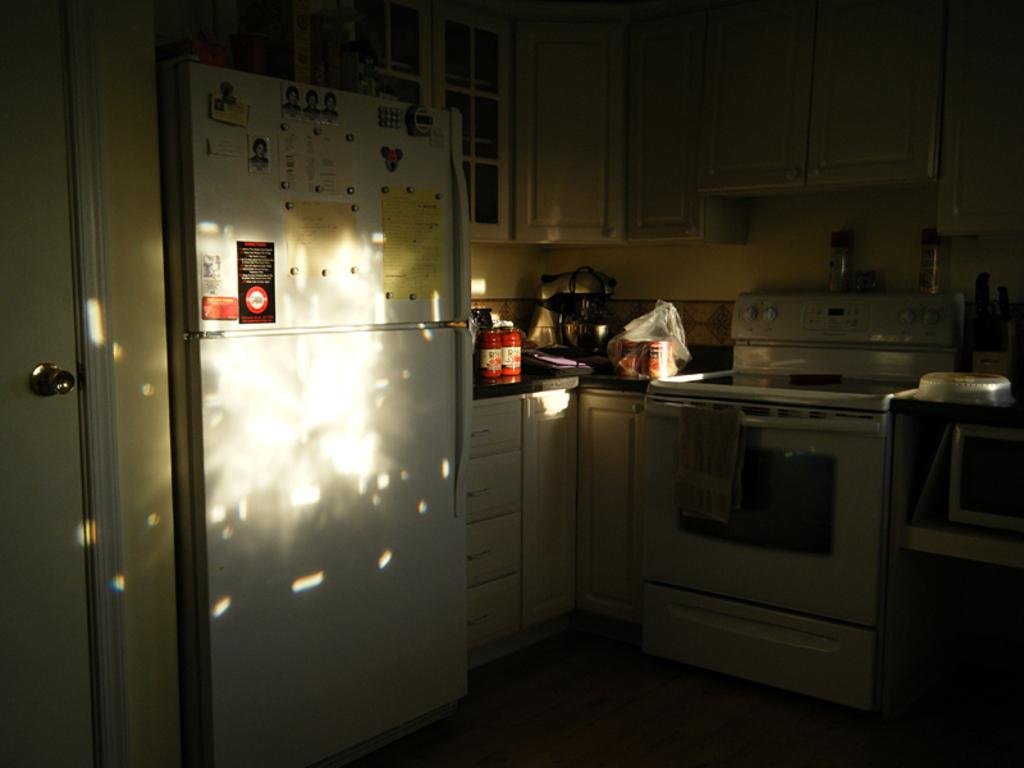cabinet_door: (524, 30, 618, 243), (811, 31, 931, 172), (699, 27, 804, 180), (621, 26, 696, 234), (946, 48, 1024, 234), (583, 396, 649, 605), (530, 395, 582, 598), (468, 572, 524, 639), (472, 520, 526, 570), (476, 410, 525, 457), (478, 460, 524, 510)
handle: (670, 607, 844, 656), (448, 324, 478, 502), (445, 157, 476, 319), (38, 364, 78, 406)
